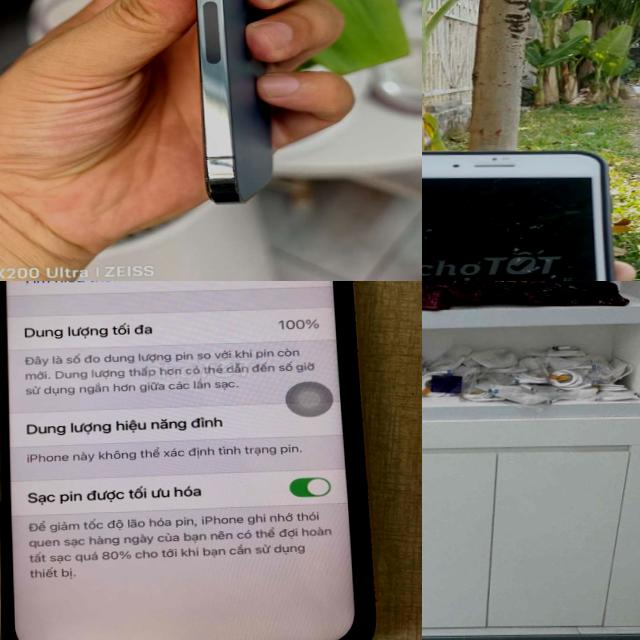gen_12_13: (170, 0, 289, 219)
gen_7_8: (422, 150, 615, 281)
gen_x_xs: (0, 281, 386, 640)
